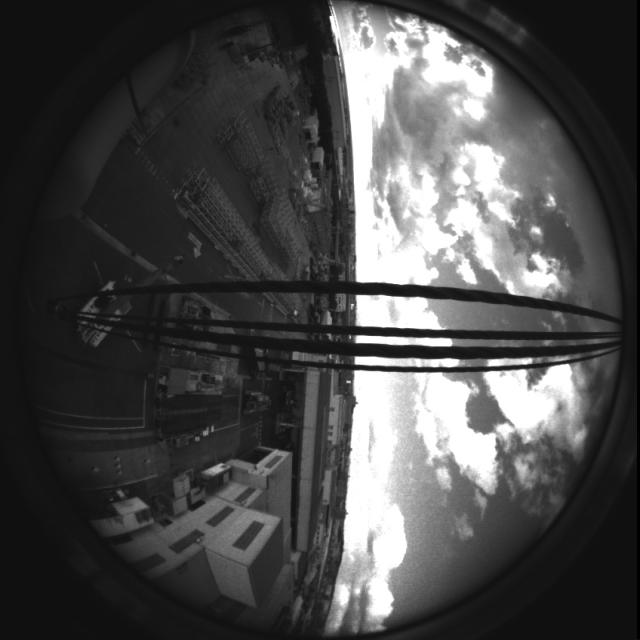rope: (13, 274, 637, 378)
sky: (321, 5, 623, 638)
